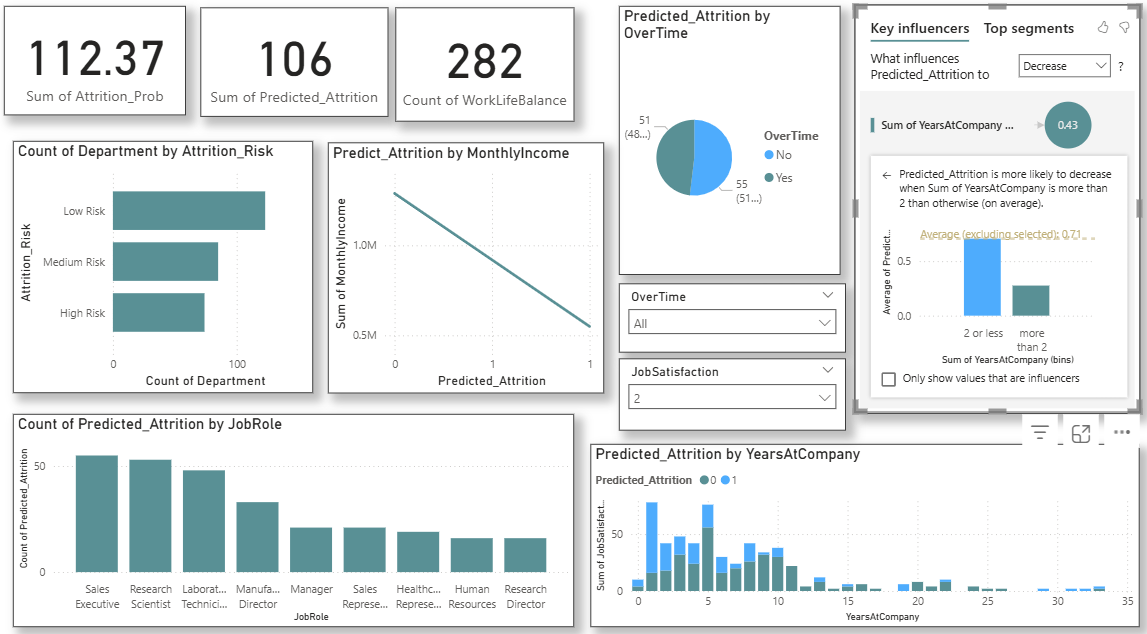

This screenshot's page, from the dashboard's own definition file:
{"tool":"powerbi","page":{"name":"Page 1","canvas":[1280,720],"ordinal":0},"visuals":[{"type":"card","fields":{"Values":["Sum(employee_attrition.Attrition_Prob)"]},"box":[6.3,12.6,202.1,121.6],"z":0},{"type":"card","fields":{"Values":["Sum(employee_attrition.Predicted_Attrition)"]},"box":[224.2,14.2,208.4,121.6],"z":1},{"type":"card","fields":{"Values":["CountNonNull(employee_attrition.WorkLifeBalance)"]},"box":[441.7,15,198.3,126.7],"z":2},{"type":"barChart","fields":{"Y":["CountNonNull(employee_attrition.Department)"],"Category":["employee_attrition.Attrition_Risk"]},"box":[16.7,163.3,333.3,280],"z":3},{"type":"clusteredColumnChart","fields":{"Y":["CountNonNull(employee_attrition.Predicted_Attrition)"],"Category":["employee_attrition.JobRole"]},"box":[16.7,466.7,623.3,236.7],"z":4},{"type":"pieChart","title":"Predicted_Attrition by OverTime","fields":{"Category":["employee_attrition.OverTime"],"Y":["Sum(employee_attrition.Predicted_Attrition)"]},"box":[690,12.6,246.3,298.4],"z":5},{"type":"lineStackedColumnComboChart","title":"Predicted_Attrition by YearsAtCompany","fields":{"Category":["employee_attrition.YearsAtCompany"],"Series":["employee_attrition.Predicted_Attrition"],"Y":["Sum(employee_attrition.JobSatisfaction)"]},"box":[658.3,500,610,203.3],"z":6},{"type":"lineChart","title":"Predict_Attrition by MonthlyIncome","fields":{"Y":["Sum(employee_attrition.MonthlyIncome)"],"Category":["employee_attrition.Predicted_Attrition"]},"box":[366.7,165,306.7,278.3],"z":7},{"type":"slicer","fields":{"Values":["employee_attrition.OverTime"]},"box":[690,321.7,251.7,76.7],"z":8},{"type":"slicer","fields":{"Values":["employee_attrition.JobSatisfaction"]},"box":[690,405,251.7,80],"z":9},{"type":"keyDriversVisual","fields":{"Target":["employee_attrition.Predicted_Attrition"],"ExplainBy":["Sum(employee_attrition.JobSatisfaction)","Sum(employee_attrition.YearsAtCompany)"]},"box":[952.1,11.1,317.4,454.7],"z":10}]}

Visuals, with their boxes in screenshot pixels (x1, y1, x2, y2), scaled from the page's 1280x720 canvas onto the 1147x634 screenshot:
card - Sum(employee_attrition.Attrition_Prob): bbox=(6, 11, 187, 118)
card - Sum(employee_attrition.Predicted_Attrition): bbox=(201, 13, 388, 120)
card - CountNonNull(employee_attrition.WorkLifeBalance): bbox=(396, 13, 574, 125)
barChart - CountNonNull(employee_attrition.Department) x employee_attrition.Attrition_Risk: bbox=(15, 144, 314, 390)
clusteredColumnChart - CountNonNull(employee_attrition.Predicted_Attrition) x employee_attrition.JobRole: bbox=(15, 411, 574, 619)
"Predicted_Attrition by OverTime" pieChart: bbox=(618, 11, 839, 274)
"Predicted_Attrition by YearsAtCompany" lineStackedColumnComboChart: bbox=(590, 440, 1137, 619)
"Predict_Attrition by MonthlyIncome" lineChart: bbox=(329, 145, 603, 390)
slicer - employee_attrition.OverTime: bbox=(618, 283, 844, 351)
slicer - employee_attrition.JobSatisfaction: bbox=(618, 357, 844, 427)
keyDriversVisual - employee_attrition.Predicted_Attrition x Sum(employee_attrition.JobSatisfaction): bbox=(853, 10, 1138, 410)
